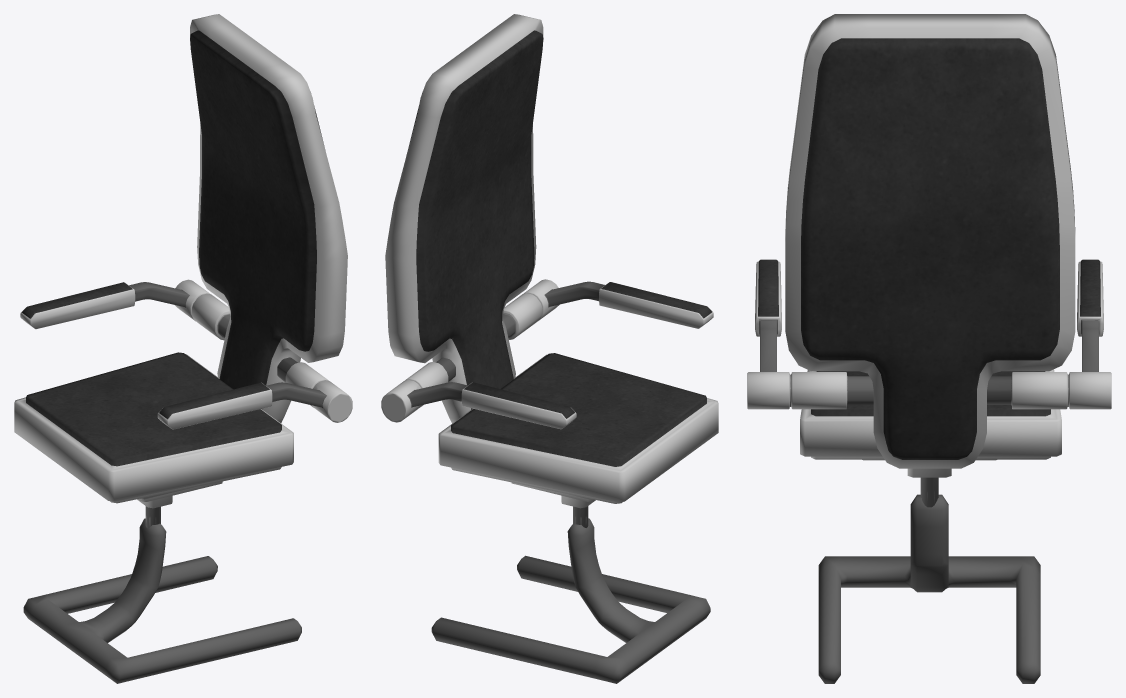
Rendered from chair.fbx.
The picture shows the model from 3 angles, left to right: view 1: azimuth 30°, elevation 25°; view 2: azimuth 150°, elevation 25°; view 3: azimuth 270°, elevation 25°; orthographic projection. The views are drawn at different scales.
Visible parts, largest first — view 1: Chair; view 2: Chair; view 3: Chair.
Part boxes in pixels (bbox=[...]): Chair: bbox=[14, 14, 352, 683]; Chair: bbox=[381, 14, 718, 683]; Chair: bbox=[747, 14, 1111, 683].
Size of what is drawn, in the model's own units: 60 by 140 by 70.
